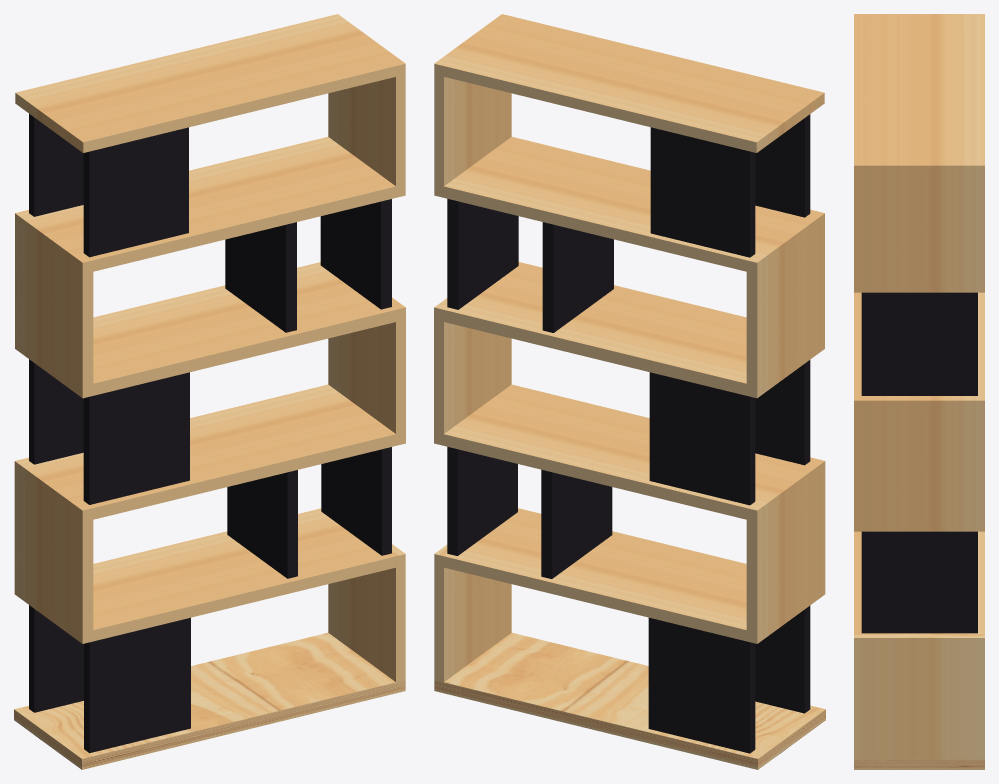
File: Shelf.fbx
The picture shows the model from 3 angles, left to right: view 1: azimuth 30°, elevation 25°; view 2: azimuth 150°, elevation 25°; view 3: azimuth 270°, elevation 25°; orthographic projection. The views are drawn at different scales.
Visible parts, largest first — view 1: Cube; view 2: Cube; view 3: Cube.
Part boxes in pixels (x1,y1,x2,y2): Cube: (14, 14, 405, 769); Cube: (434, 14, 825, 769); Cube: (854, 14, 984, 769).
Bounding box in the file's own units: 825 × 1527 × 300.
Materials: 2 (1 with a texture image).
